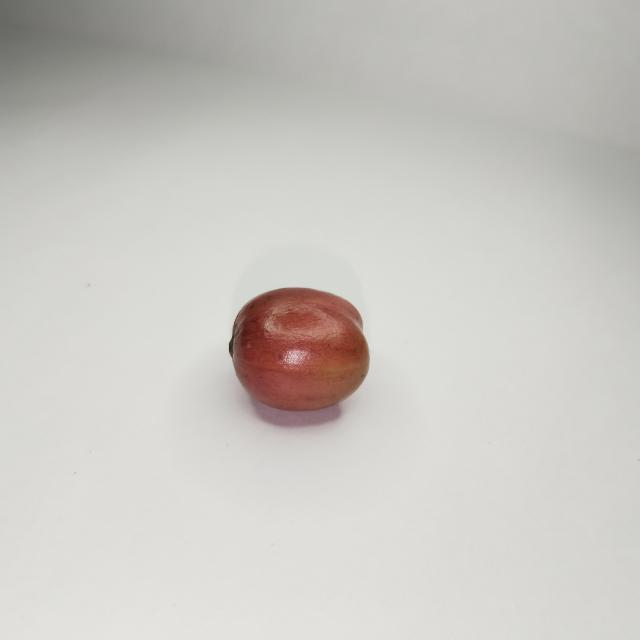Sano: (229, 288, 368, 413)
